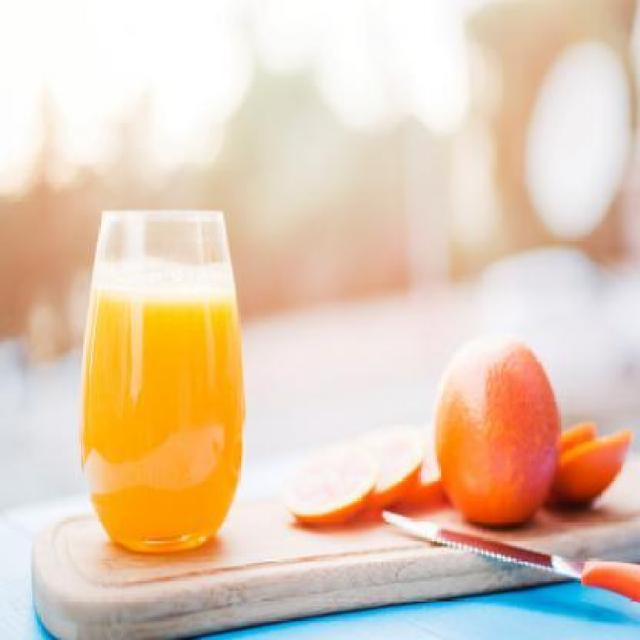Jeruk Sudah Matang: (432, 334, 558, 530)
